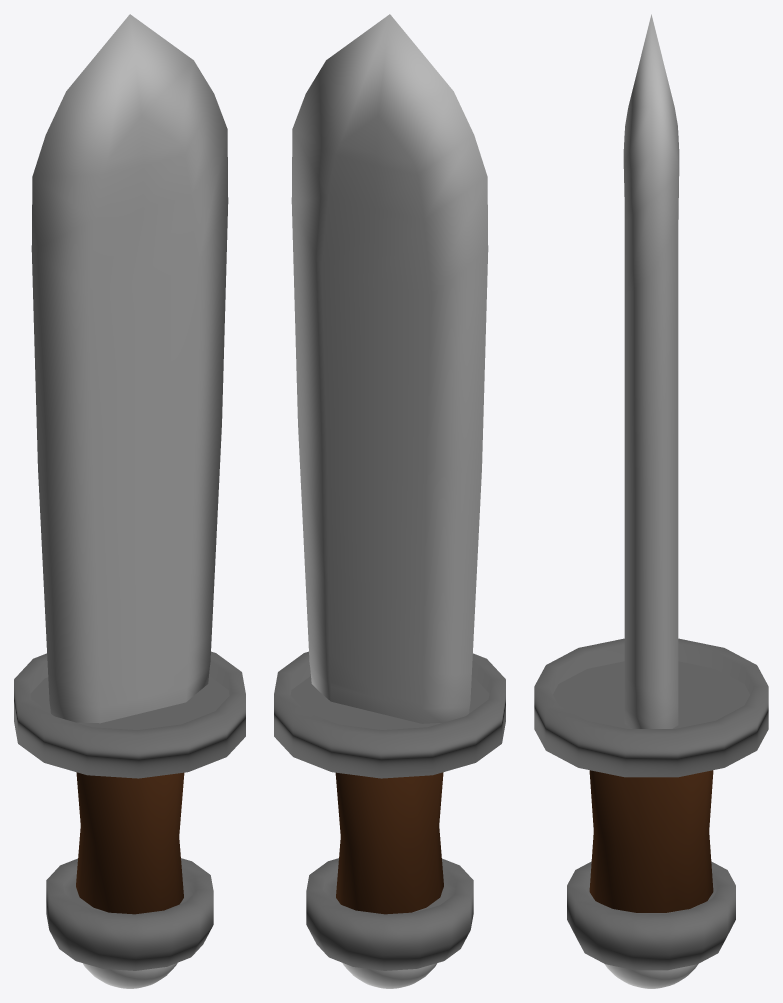
File: sword.glb
The picture shows the model from 3 angles, left to right: view 1: azimuth 30°, elevation 25°; view 2: azimuth 150°, elevation 25°; view 3: azimuth 270°, elevation 25°; orthographic projection.
Parts seen in each view (by area): view 1: Cube, Cylinder.002, Cylinder, Cylinder.001, Sphere; view 2: Cube, Cylinder.002, Cylinder, Cylinder.001, Sphere; view 3: Cube, Cylinder.002, Cylinder, Cylinder.001, Sphere.
Boxes of the visible parts, x1=… form: Cube: x1=31, y1=14, x2=228, y2=723; Cylinder.002: x1=14, y1=651, x2=245, y2=778; Cylinder: x1=76, y1=772, x2=184, y2=914; Cylinder.001: x1=46, y1=858, x2=213, y2=970; Sphere: x1=82, y1=963, x2=177, y2=988; Cube: x1=291, y1=14, x2=488, y2=723; Cylinder.002: x1=274, y1=651, x2=505, y2=778; Cylinder: x1=335, y1=772, x2=443, y2=914; Cylinder.001: x1=306, y1=858, x2=473, y2=970; Sphere: x1=342, y1=963, x2=437, y2=988; Cube: x1=623, y1=14, x2=679, y2=728; Cylinder.002: x1=534, y1=638, x2=768, y2=777; Cylinder: x1=589, y1=770, x2=713, y2=912; Cylinder.001: x1=567, y1=861, x2=735, y2=970; Sphere: x1=604, y1=964, x2=698, y2=988.
Bounding box in the file's own units: 1.95 × 9.13 × 2.
